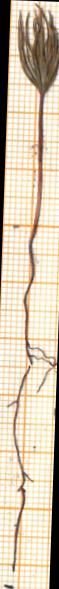flower: (7, 0, 59, 101)
stem: (4, 231, 58, 577), (30, 102, 50, 230)
